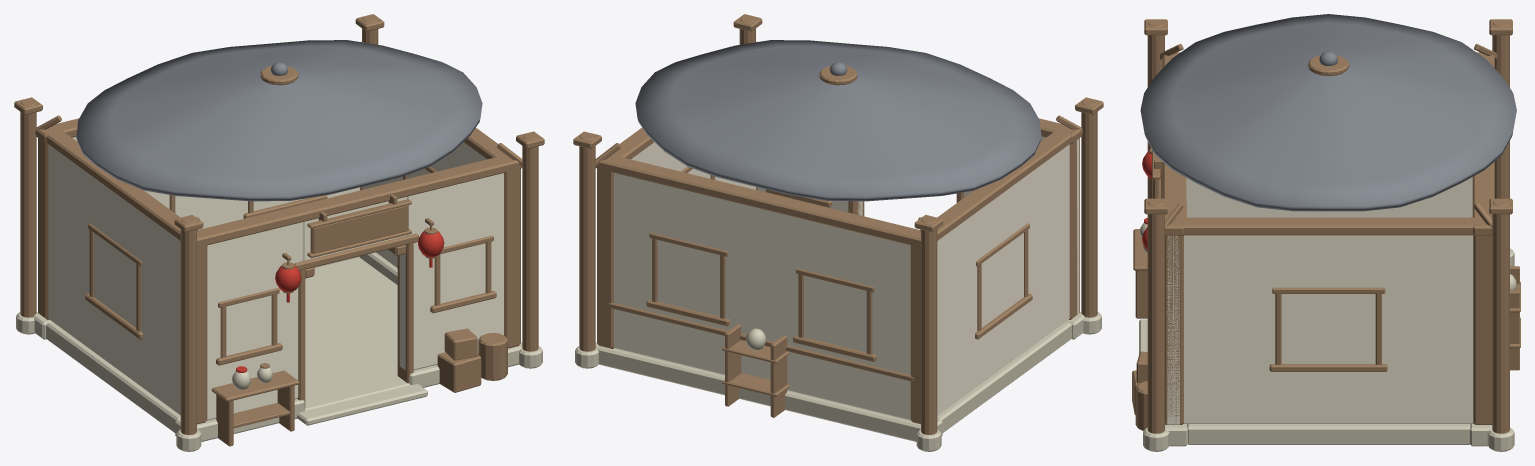
File: shop_umbrella.glb
3 renders of one model, left to right at view 1: azimuth 30°, elevation 25°; view 2: azimuth 150°, elevation 25°; view 3: azimuth 270°, elevation 25°, orthographic. The views are drawn at different scales.
Parts seen in each view (by area): view 1: Decor_All, Roof_All, Wall_All; view 2: Wall_All, Roof_All, Decor_All; view 3: Roof_All, Wall_All, Decor_All.
Boxes of the visible parts, bbox=[...] form: Decor_All: bbox=[16, 16, 542, 451]; Roof_All: bbox=[14, 14, 544, 232]; Wall_All: bbox=[48, 136, 503, 420]; Wall_All: bbox=[614, 136, 1079, 420]; Roof_All: bbox=[573, 14, 1103, 232]; Decor_All: bbox=[575, 16, 1101, 451]; Roof_All: bbox=[1140, 14, 1516, 227]; Wall_All: bbox=[1167, 177, 1473, 424]; Decor_All: bbox=[1132, 20, 1520, 451].
Bounding box in the file's own units: 5.76 × 4.26 × 4.92.
